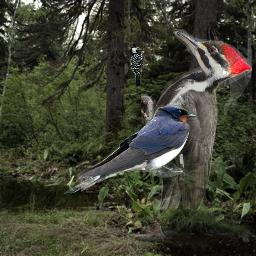Swallow: (64, 105, 197, 198)
Woodpecker: (141, 27, 252, 210), (129, 45, 150, 86)
